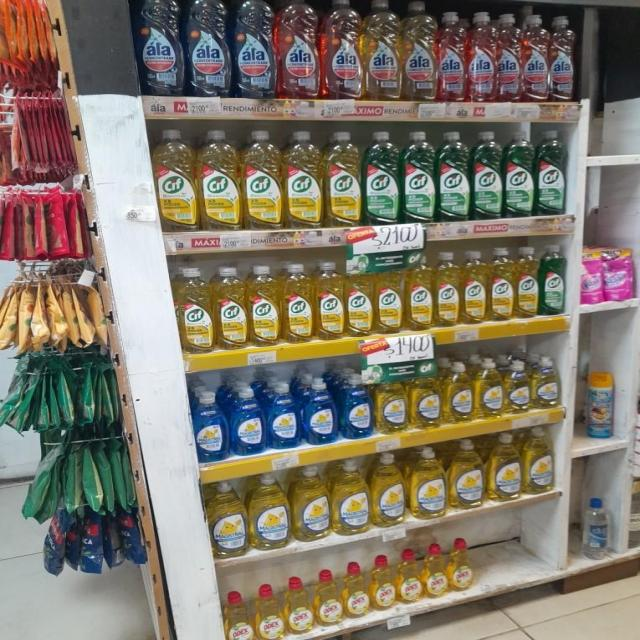ala_conc_amarillo: (363, 0, 402, 101), (402, 1, 437, 103)
ala_conc_azul: (135, 0, 183, 97), (186, 0, 230, 99), (232, 0, 275, 100)
ala_conc_rojo: (276, 0, 320, 101), (322, 0, 362, 100), (438, 10, 466, 103), (549, 15, 578, 104), (468, 12, 496, 103), (522, 13, 549, 103), (496, 12, 521, 103)
cif_conc_bot_amarilla: (154, 128, 197, 233), (198, 129, 240, 232), (243, 130, 282, 231), (284, 130, 323, 230), (324, 131, 362, 228), (177, 266, 213, 355), (214, 266, 247, 350), (248, 264, 280, 346), (282, 262, 314, 344), (345, 257, 374, 338), (315, 260, 344, 340), (405, 253, 433, 331), (375, 260, 404, 334), (434, 251, 460, 327), (462, 249, 488, 324), (489, 247, 514, 322), (515, 246, 539, 319)
cif_conc_botella_verde: (363, 130, 400, 226), (402, 131, 436, 224), (438, 131, 470, 222), (536, 128, 568, 216), (472, 130, 503, 220), (504, 126, 534, 218), (540, 244, 567, 316)
magistral_con_amarillo: (250, 473, 290, 550), (210, 481, 248, 558), (332, 459, 370, 535), (293, 464, 330, 542), (409, 446, 446, 519), (371, 451, 406, 527), (449, 438, 484, 511), (487, 432, 522, 502), (523, 426, 555, 495), (443, 361, 473, 424), (376, 377, 408, 434), (409, 374, 441, 430), (475, 358, 502, 419), (532, 356, 561, 410), (504, 360, 531, 414)
magistral_con_azul: (230, 385, 265, 456), (194, 390, 228, 462), (303, 378, 338, 446), (267, 381, 300, 450), (341, 372, 373, 440)
odex: (255, 582, 285, 640), (286, 575, 314, 635), (315, 568, 343, 627), (344, 561, 370, 618), (371, 555, 396, 611), (398, 551, 422, 604)
